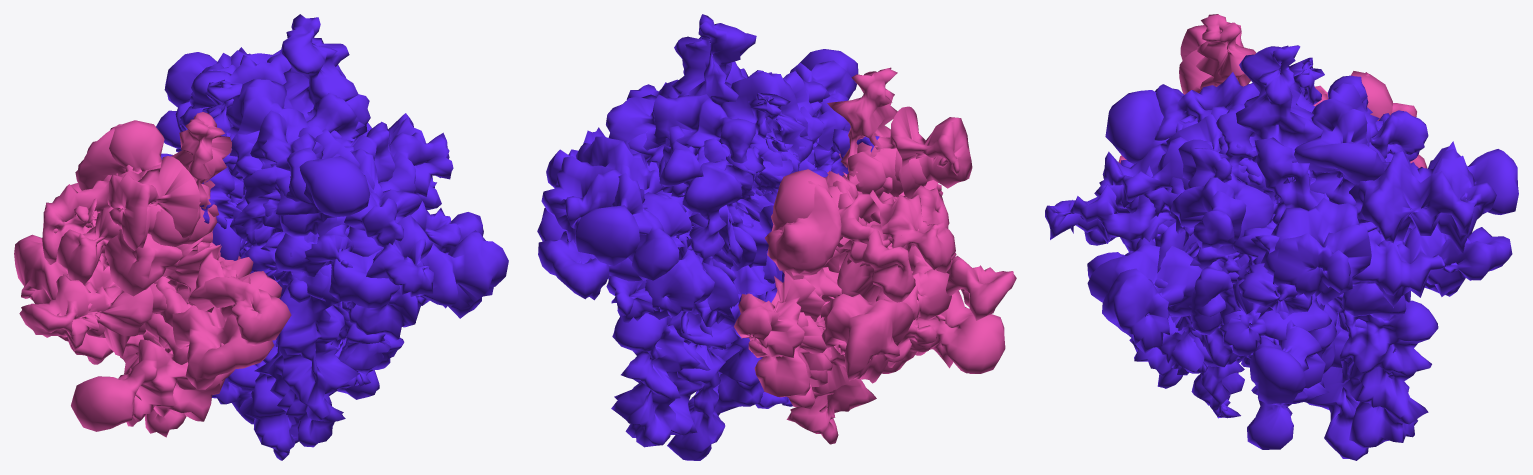
File: ribosome.glb
The picture shows the model from 3 angles, left to right: view 1: azimuth 30°, elevation 25°; view 2: azimuth 150°, elevation 25°; view 3: azimuth 270°, elevation 25°; orthographic projection. The views are drawn at different scales.
Visible parts, largest first — view 1: ribosome_1-material, ribosome_2-material; view 2: ribosome_1-material, ribosome_2-material; view 3: ribosome_1-material, ribosome_2-material.
Boxes of the visible parts, bbox=[...] form: ribosome_1-material: bbox=[156, 14, 508, 460]; ribosome_2-material: bbox=[14, 112, 291, 437]; ribosome_1-material: bbox=[537, 14, 879, 460]; ribosome_2-material: bbox=[734, 67, 1016, 444]; ribosome_1-material: bbox=[1045, 45, 1518, 460]; ribosome_2-material: bbox=[1118, 14, 1427, 168].
Bounding box in the file's own units: 6.88 × 5.97 × 6.07.
